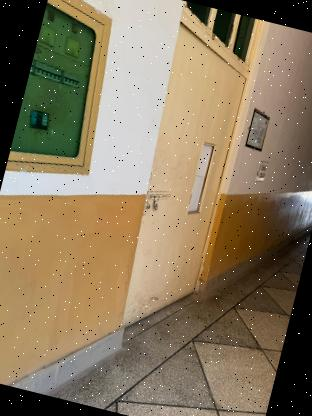door: (98, 0, 273, 353)
